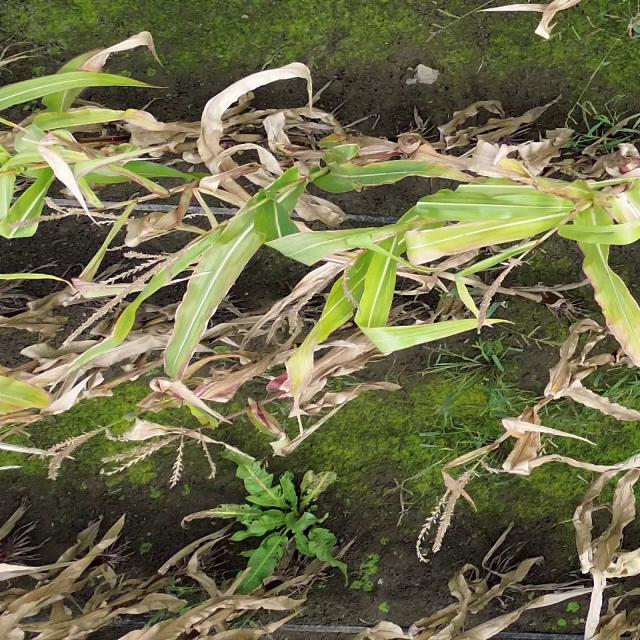northern-leaf-blight: (612, 194, 640, 242), (74, 49, 111, 72)
